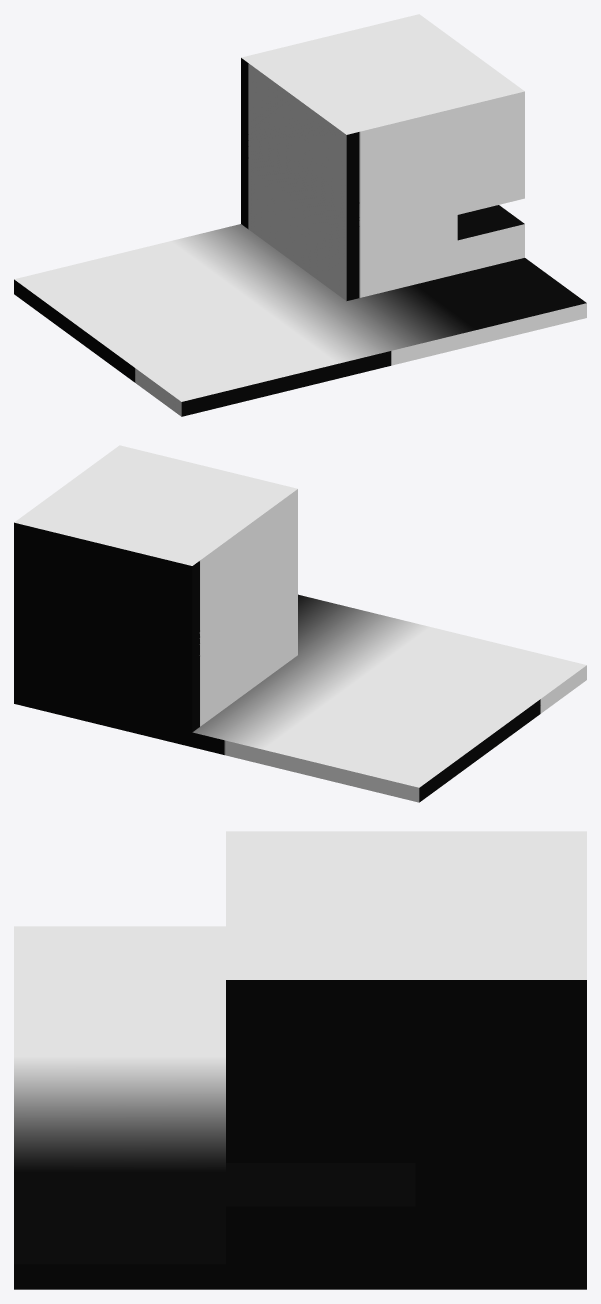
3 renders of one model, top to bottom at view 1: azimuth 30°, elevation 25°; view 2: azimuth 150°, elevation 25°; view 3: azimuth 270°, elevation 25°, orthographic. The views are drawn at different scales.
Visible parts, largest first — view 1: object_1; view 2: object_1; view 3: object_1.
Part boxes in pixels (x1,y1,x2,y2): object_1: [14, 14, 586, 416]; object_1: [14, 445, 586, 802]; object_1: [14, 831, 586, 1289].
Size of the model in its own units: 7.93 by 3.39 by 5.68.
Materials: 1 (1 with a texture image).
